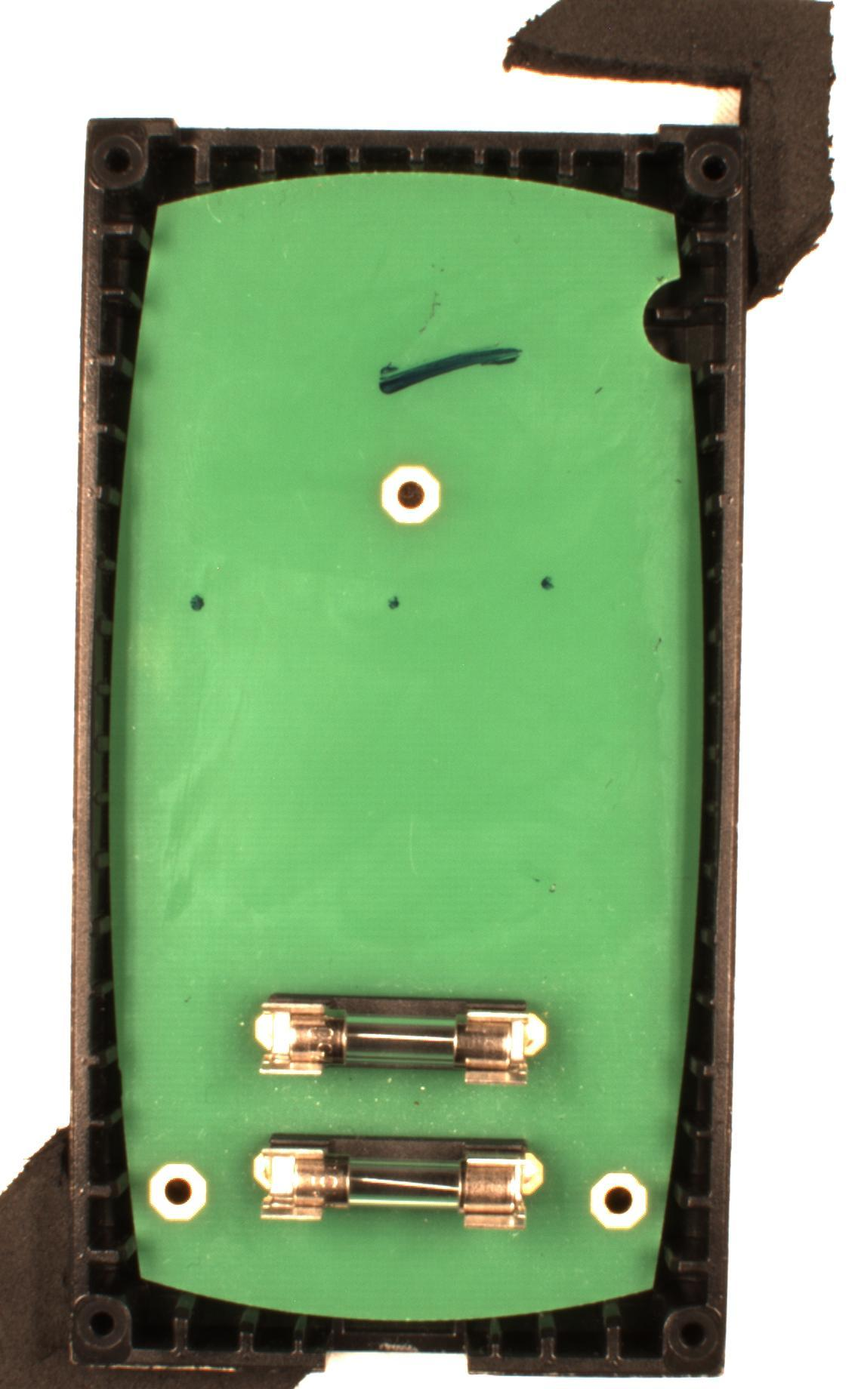Linijsko Ostecene: (377, 343, 525, 397)
Tockasto Ostecenje: (187, 592, 207, 614), (540, 575, 557, 593), (387, 595, 402, 612)
